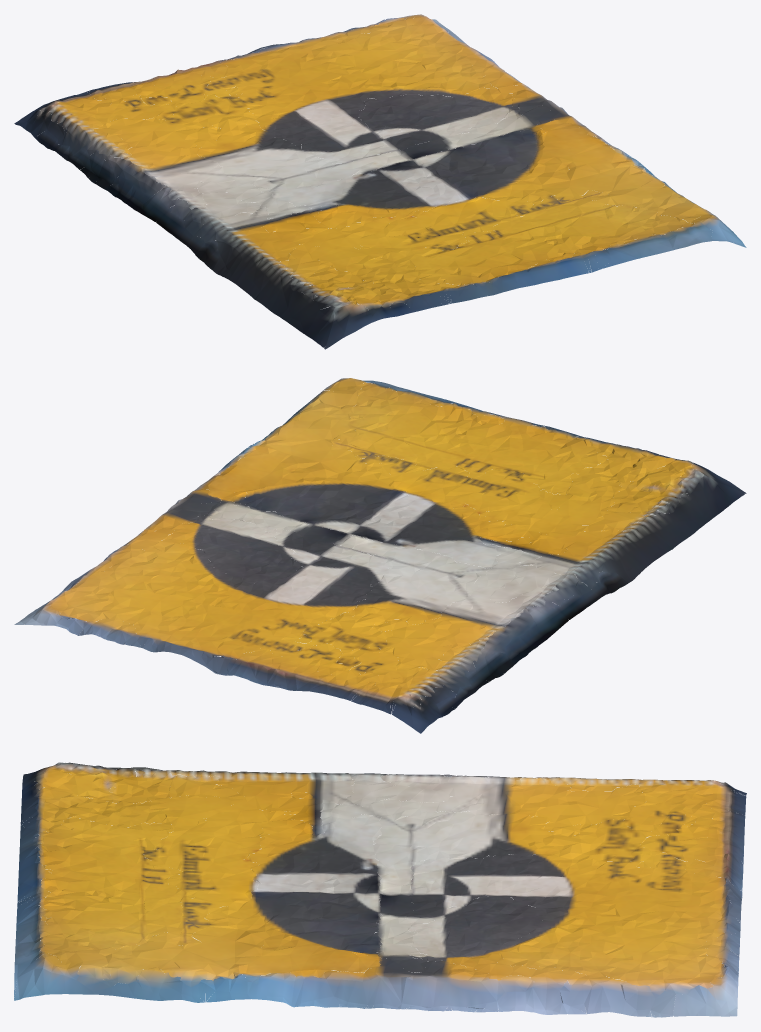
The model's file is mr kwok sketchbook (drkoh edited).glb.
3 views of the same model, one above another, from view 1: azimuth 30°, elevation 25°; view 2: azimuth 150°, elevation 25°; view 3: azimuth 270°, elevation 25° (orthographic). The views are drawn at different scales.
Visible parts, largest first — view 1: mesh; view 2: mesh; view 3: mesh.
Part boxes in pixels (x1,y1,x2,y2): mesh: (14, 14, 746, 349); mesh: (14, 378, 746, 733); mesh: (14, 762, 746, 1017).
Bounding box in the file's own units: 0.2504 × 0.0223 × 0.3301.
Materials: 1 (1 with a texture image).
